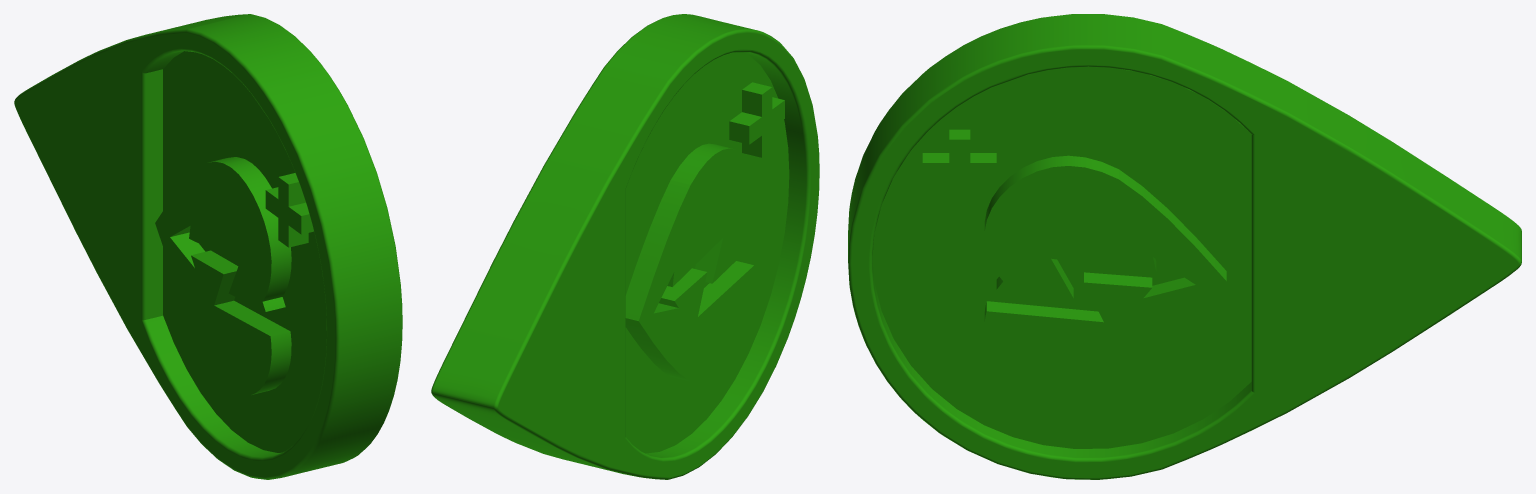
The model's file is ICONO 3.fbx.
3 renders of one model, left to right at view 1: azimuth 30°, elevation 25°; view 2: azimuth 150°, elevation 25°; view 3: azimuth 270°, elevation 25°, orthographic. The views are drawn at different scales.
Visible parts, largest first — view 1: Body3; view 2: Body3; view 3: Body3.
Part boxes in pixels (<box>): Body3: <box>14,14,402,479</box>; Body3: <box>431,14,819,479</box>; Body3: <box>848,14,1521,479</box>.
Bounding box in the file's own units: 112 × 675 × 947.
